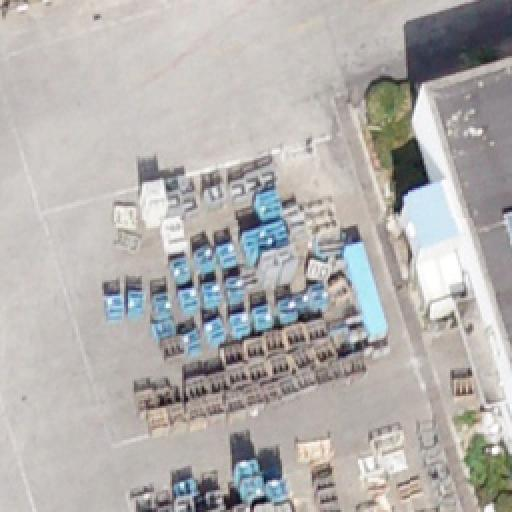solar-panel: (504, 210, 512, 246)
